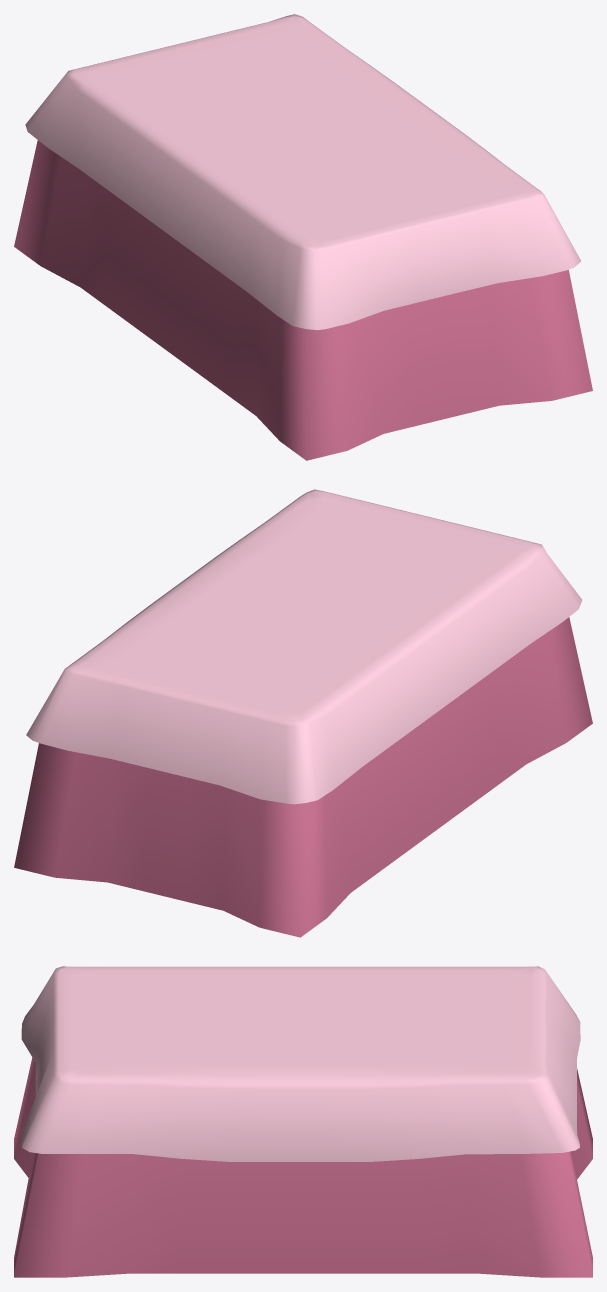
Rendered from geo_BoothBase.fbx.
3 views of the same model, one above another, from view 1: azimuth 30°, elevation 25°; view 2: azimuth 150°, elevation 25°; view 3: azimuth 270°, elevation 25° (orthographic).
Visible parts, largest first — view 1: Boothbase; view 2: Boothbase; view 3: Boothbase.
Boxes of the visible parts, <box> form: Boothbase: <box>14,14,592,460</box>; Boothbase: <box>14,489,592,937</box>; Boothbase: <box>14,966,592,1277</box>.
Size of the model in its own units: 540 by 336 by 949.
